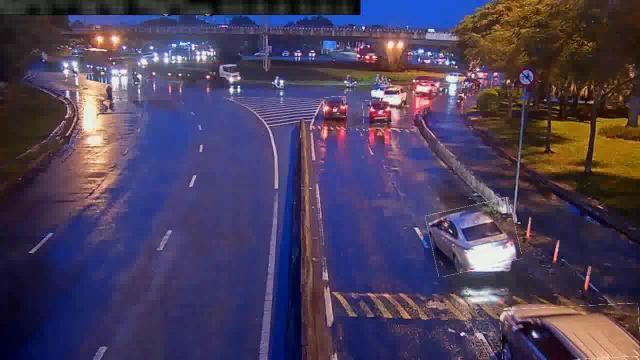Car: (500, 305, 640, 360), (428, 202, 520, 274), (364, 100, 396, 124), (380, 86, 410, 106), (324, 96, 346, 118), (416, 82, 440, 96)
